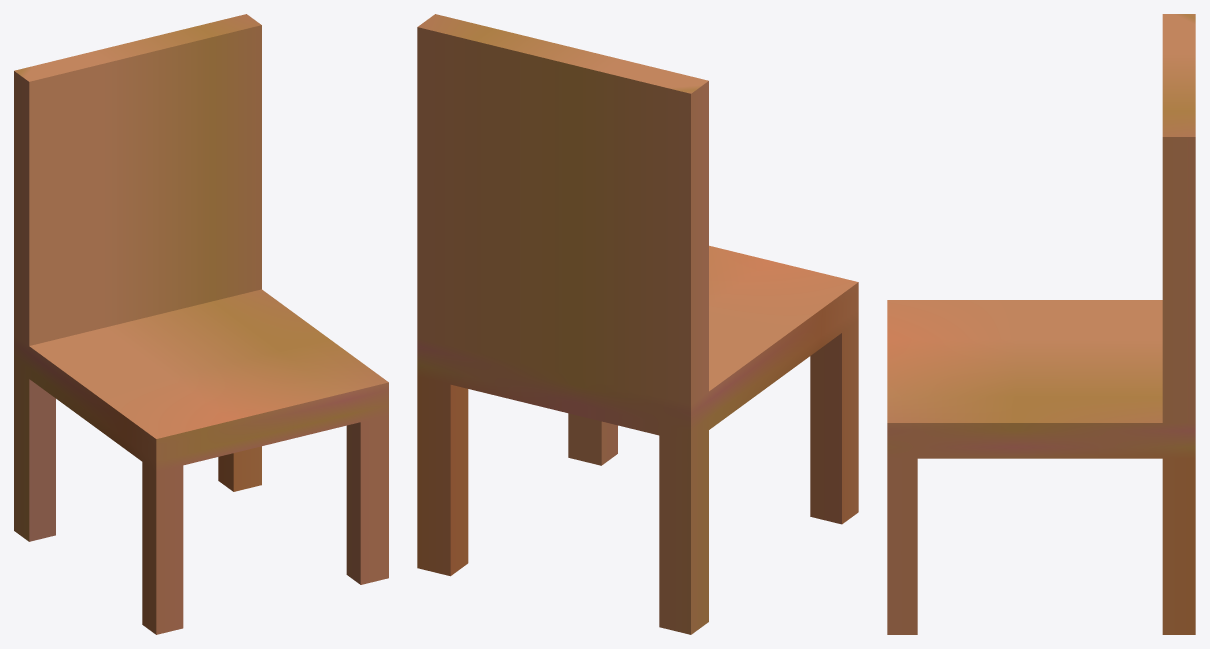
Rendered from Chair.fbx.
The picture shows the model from 3 angles, left to right: view 1: azimuth 30°, elevation 25°; view 2: azimuth 150°, elevation 25°; view 3: azimuth 270°, elevation 25°; orthographic projection. The views are drawn at different scales.
Parts seen in each view (by area): view 1: Chair; view 2: Chair; view 3: Chair.
Boxes of the visible parts, x1=… form: Chair: x1=14, y1=14, x2=388, y2=634; Chair: x1=417, y1=14, x2=858, y2=634; Chair: x1=887, y1=14, x2=1195, y2=634.
Bounding box in the file's own units: 68.21 × 129 × 72.27.
